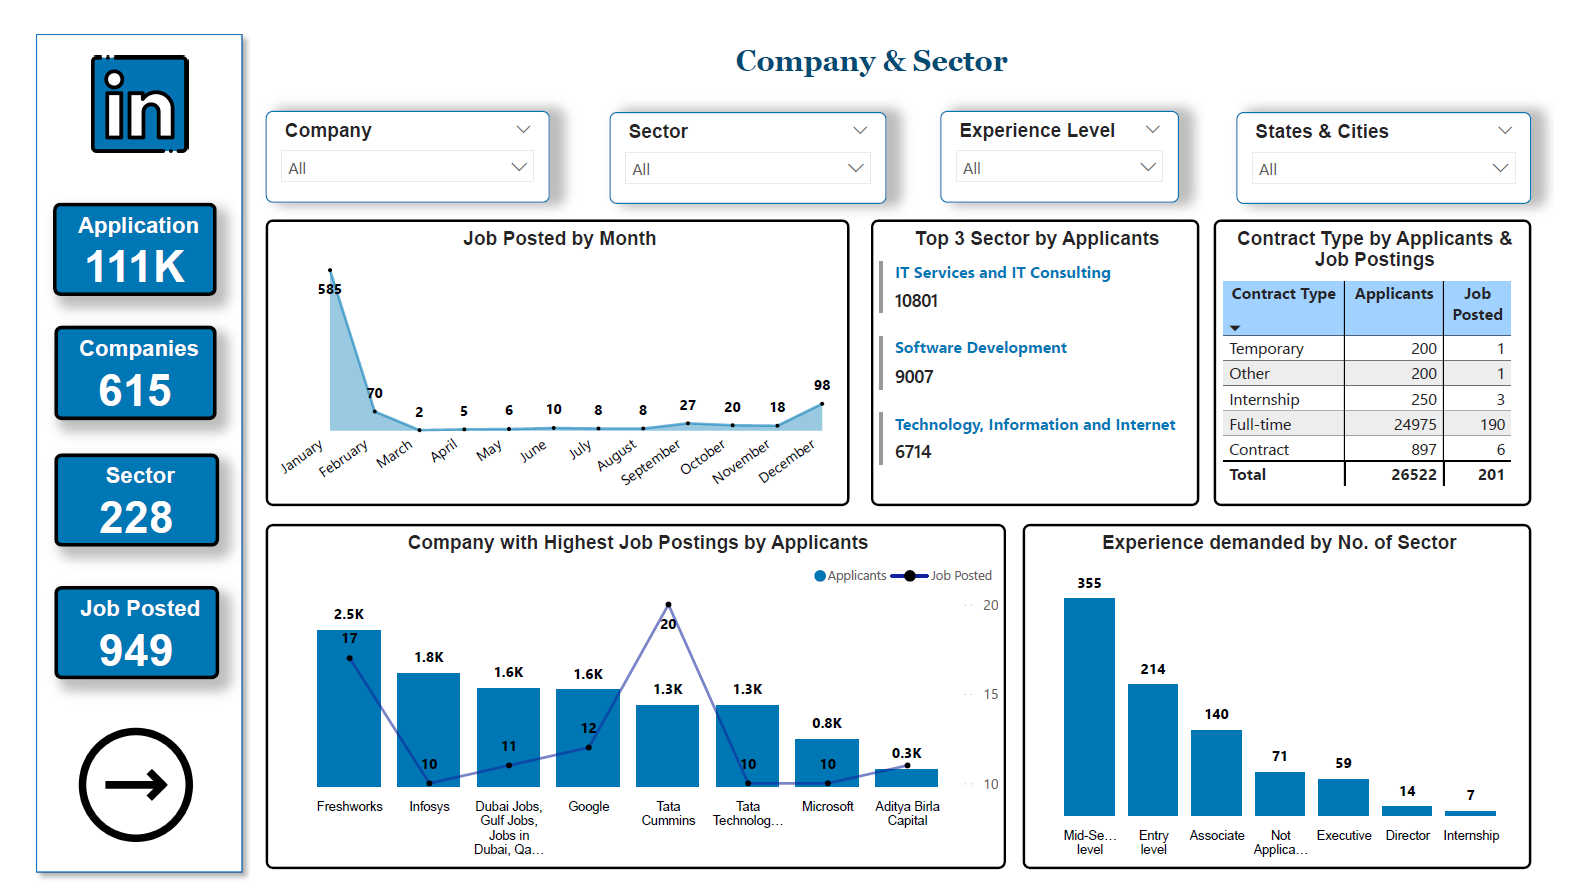

This screenshot's page, from the dashboard's own definition file:
{"tool":"powerbi","page":{"name":"1. Company & Sector","canvas":[1280,720],"ordinal":1},"visuals":[{"type":"shape","box":[0,0,190.6,720.2],"z":0},{"type":"slicer","fields":{"Values":["LinkedIn Jobs Data.Company Name"]},"box":[201.2,72.5,237.5,77.5],"z":1000},{"type":"slicer","fields":{"Values":["LinkedIn Jobs Data.Sector"]},"box":[488.8,73.8,232.5,77.5],"z":2000},{"type":"slicer","fields":{"Values":["LinkedIn Jobs Data.State","LinkedIn Jobs Data.City"]},"box":[1013.8,73.8,247.5,77.5],"z":3000},{"type":"slicer","fields":{"Values":["LinkedIn Jobs Data.Experience Level"]},"box":[766.2,72.5,200,77.5],"z":4000},{"type":"lineChart","fields":{"Category":["LinkedIn Jobs Data.Job Published Date.Variation.Date Hierarchy.Month"],"Y":["MeasureTable.Job Posted"]},"box":[201.2,163.8,488.8,240],"z":5000},{"type":"lineStackedColumnComboChart","title":"Company with Highest Job Postings by Applicants","fields":{"Category":["LinkedIn Jobs Data.Company Name"],"Y":["Sum(LinkedIn Jobs Data.Applicants)"],"Y2":["MeasureTable.Job Posted"]},"box":[201.2,418.8,620,288.8],"z":6000},{"type":"multiRowCard","title":"Top 3 Sector by Applicants","fields":{"Values":["LinkedIn Jobs Data.Sector","Sum(LinkedIn Jobs Data.Applicants)"]},"box":[707.5,163.8,275,240],"z":7000},{"type":"tableEx","title":"Contract Type by Applicants & Job Postings","fields":{"Values":["LinkedIn Jobs Data.Contract Type","Sum(LinkedIn Jobs Data.Applicants)","MeasureTable.Job Posted"]},"box":[995,163.8,266.2,240],"z":8000},{"type":"clusteredColumnChart","title":"Experience demanded by No. of Sector","fields":{"Y":["CountNonNull(LinkedIn Jobs Data.Sector)"],"Category":["LinkedIn Jobs Data.Experience Level"]},"box":[835,418.8,426.2,288.8],"z":9000},{"type":"card","title":"Application","fields":{"Values":["Sum(LinkedIn Jobs Data.applicationsCount)"]},"box":[22.9,149.6,137.5,78.4],"z":10000},{"type":"card","title":"Sector","fields":{"Values":["MeasureTable.Sector"]},"box":[24.1,359.5,137.5,78.4],"z":11000},{"type":"card","title":"Job Posted","fields":{"Values":["CountNonNull(LinkedIn Jobs Data.Job Posted Time)"]},"box":[24.1,470.5,137.5,78.4],"z":12000},{"type":"card","title":"Companies","fields":{"Values":["MeasureTable.No of Companies"]},"box":[24.1,253.4,136.3,78.4],"z":13000},{"type":"image","box":[45.8,21.7,97.7,91.7],"z":14000},{"type":"image","box":[35.7,580.4,112.5,115.3],"z":15000},{"type":"textbox","box":[558.8,12.5,298.8,41.2],"z":16000}]}

Visuals, with their boxes in screenshot pixels (x1, y1, x2, y2), scaled from the page's 1280x720 canvas onto the 1580x892 screenshot:
shape: (0, 0, 235, 891)
slicer - LinkedIn Jobs Data.Company Name: (248, 90, 542, 186)
slicer - LinkedIn Jobs Data.Sector: (603, 91, 890, 187)
slicer - LinkedIn Jobs Data.State x LinkedIn Jobs Data.City: (1251, 91, 1557, 187)
slicer - LinkedIn Jobs Data.Experience Level: (946, 90, 1193, 186)
lineChart - LinkedIn Jobs Data.Job Published Date.Variation.Date Hierarchy.Month x MeasureTable.Job Posted: (248, 203, 852, 500)
"Company with Highest Job Postings by Applicants" lineStackedColumnComboChart: (248, 519, 1014, 877)
"Top 3 Sector by Applicants" multiRowCard: (873, 203, 1213, 500)
"Contract Type by Applicants & Job Postings" tableEx: (1228, 203, 1557, 500)
"Experience demanded by No. of Sector" clusteredColumnChart: (1031, 519, 1557, 877)
"Application" card: (28, 185, 198, 282)
"Sector" card: (30, 445, 199, 543)
"Job Posted" card: (30, 583, 199, 680)
"Companies" card: (30, 314, 198, 411)
image: (57, 27, 177, 140)
image: (44, 719, 183, 862)
textbox: (690, 15, 1059, 67)
